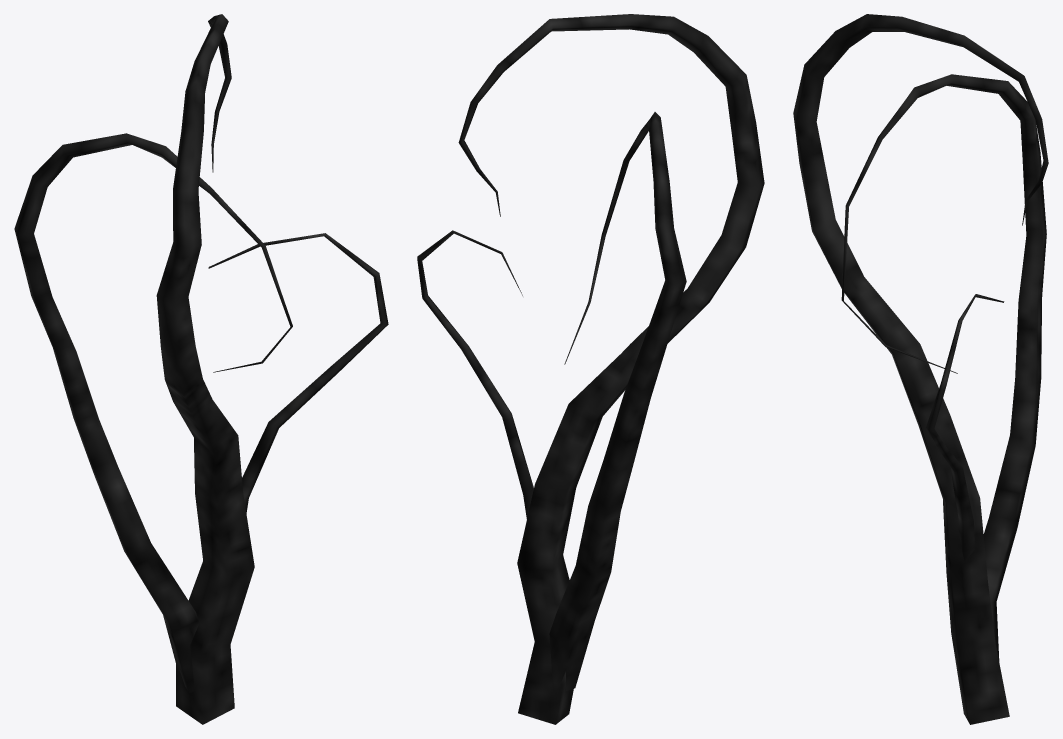
Rendered from Medium_Tree_3_Future.fbx.
3 renders of one model, left to right at view 1: azimuth 30°, elevation 25°; view 2: azimuth 150°, elevation 25°; view 3: azimuth 270°, elevation 25°, orthographic. The views are drawn at different scales.
Visible parts, largest first — view 1: Tree System.003; view 2: Tree System.003; view 3: Tree System.003.
Part boxes in pixels (x1,y1,x2,y2): Tree System.003: [14, 14, 388, 724]; Tree System.003: [417, 14, 764, 724]; Tree System.003: [793, 14, 1048, 724].
Size of the model in its own units: 1379 by 2909 by 979.
